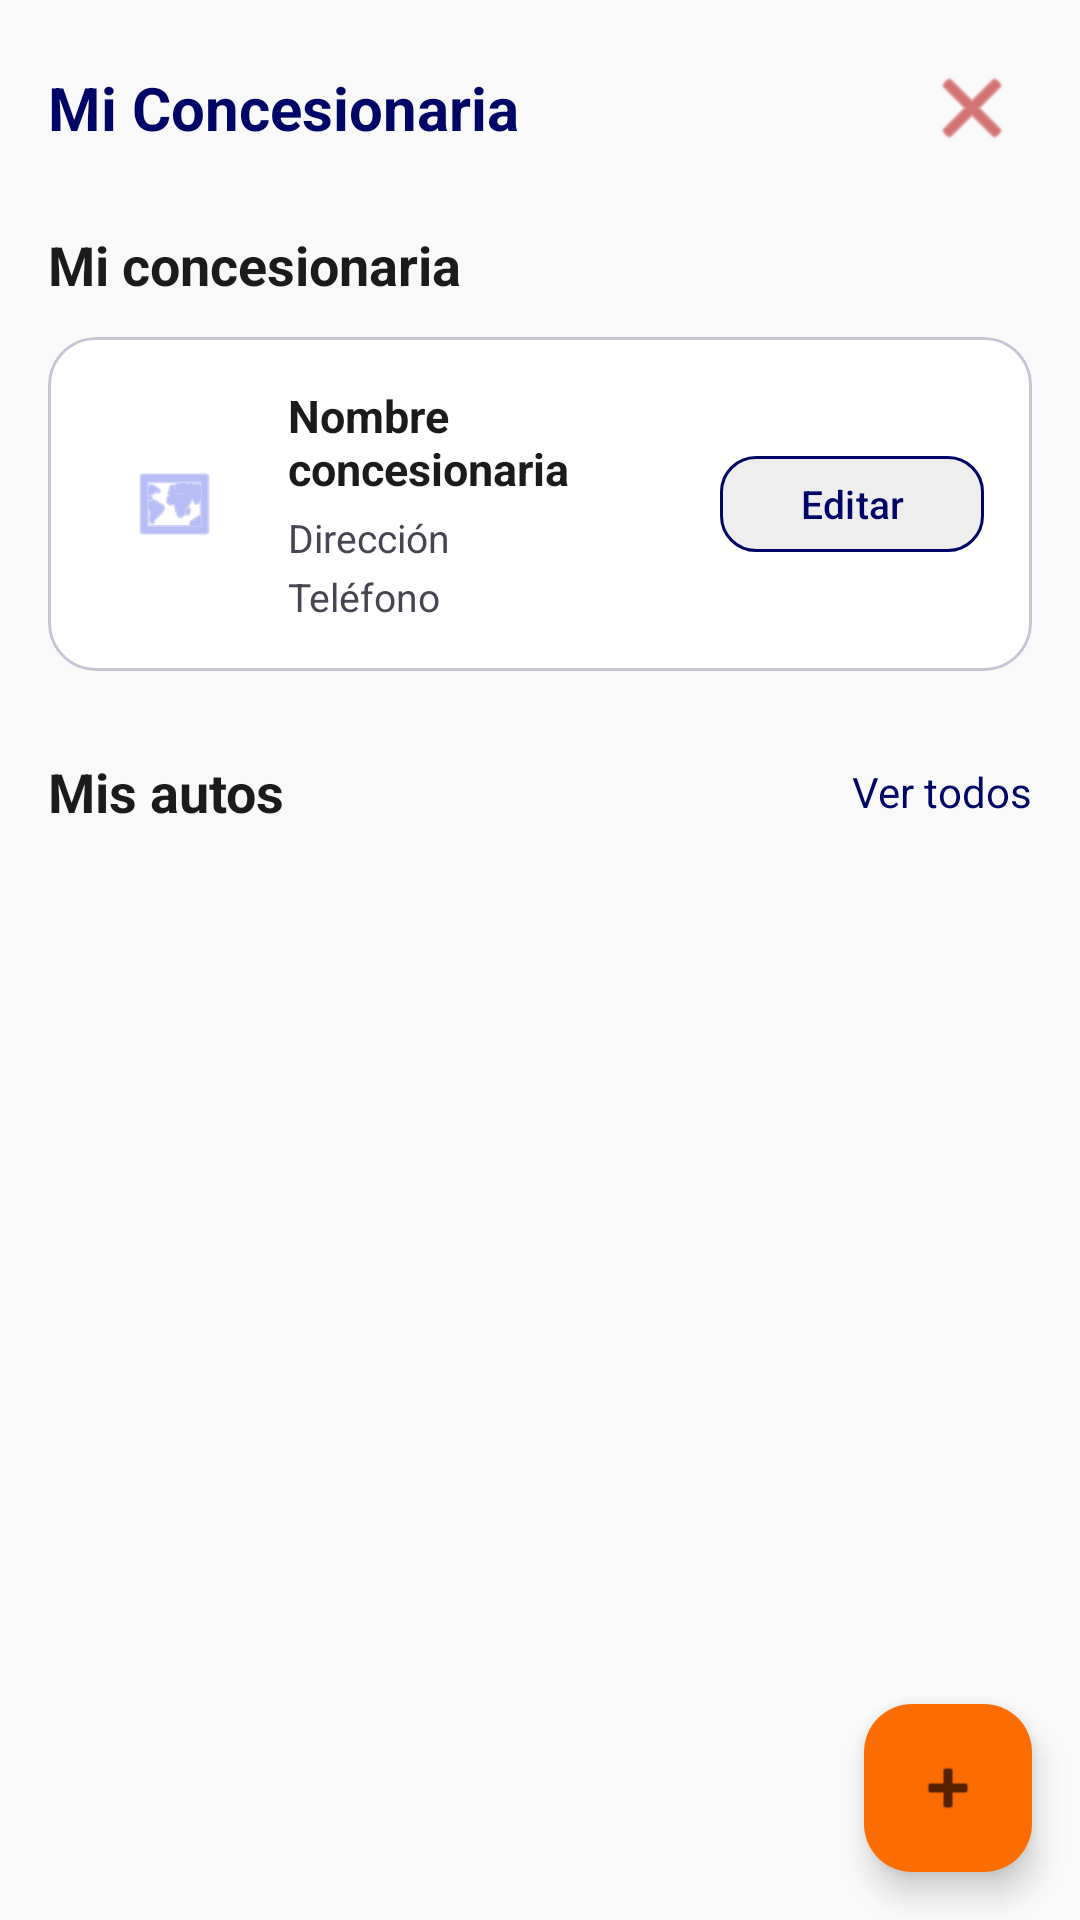

Where icons sit on this 1080 × 1920 app screen, as {"left": x1, "top": y1, "right": x2, "bottom": y2}:
Agregar auto: {"left": 864, "top": 1704, "right": 1032, "bottom": 1872}
